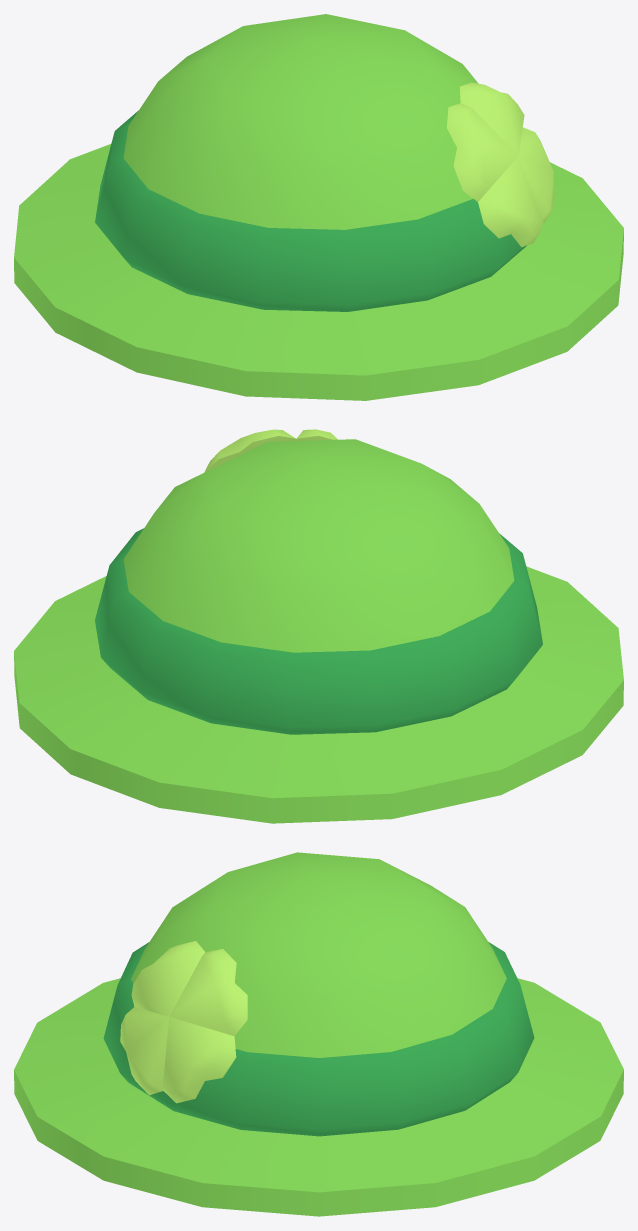
Rendered from accessory-cloverhat.glb.
3 renders of one model, top to bottom at view 1: azimuth 30°, elevation 25°; view 2: azimuth 150°, elevation 25°; view 3: azimuth 270°, elevation 25°, orthographic. The views are drawn at different scales.
Visible parts, largest first — view 1: accessory__JA_m_Hat17__0; view 2: accessory__JA_m_Hat17__0; view 3: accessory__JA_m_Hat17__0.
Part boxes in pixels (bbox=[...]): accessory__JA_m_Hat17__0: bbox=[14, 14, 623, 400]; accessory__JA_m_Hat17__0: bbox=[14, 429, 623, 823]; accessory__JA_m_Hat17__0: bbox=[14, 852, 623, 1216].
Size of the model in its own units: 0.676 by 0.2793 by 0.7098.
